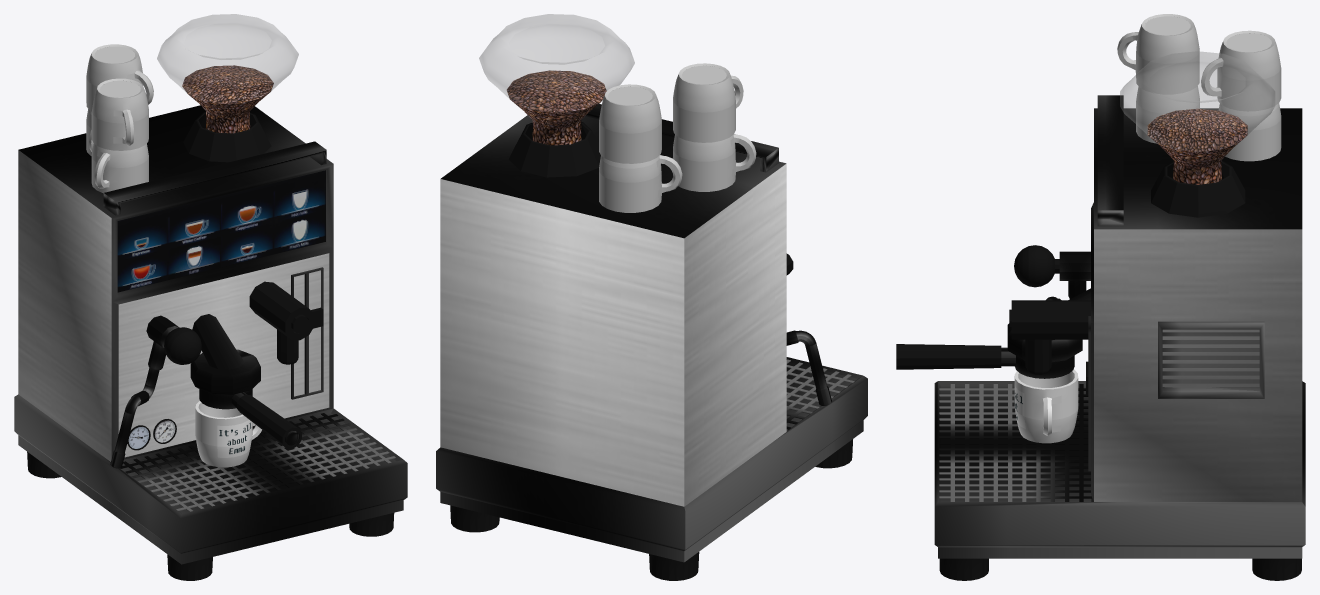
Rendered from coffeMachineFinal.fbx.
3 views of the same model, side by side, from view 1: azimuth 30°, elevation 25°; view 2: azimuth 150°, elevation 25°; view 3: azimuth 270°, elevation 25° (orthographic). The views are drawn at different scales.
Parts seen in each view (by area): view 1: coffeMachine_Exterior, coffeeMachine_button, coffeMachine_knob; view 2: coffeMachine_Exterior; view 3: coffeMachine_Exterior, coffeeMachine_button, coffeMachine_knob.
Boxes of the visible parts, x1,y1,x2,y2 form: coffeMachine_Exterior: (14,14,407,580); coffeeMachine_button: (249,281,314,364); coffeMachine_knob: (164,327,201,364); coffeMachine_Exterior: (436,14,867,580); coffeMachine_Exterior: (896,14,1305,580); coffeeMachine_button: (1009,300,1090,374); coffeMachine_knob: (1014,245,1059,287).
Bounding box in the file's own units: 6.08 × 10.04 × 7.86.
13 materials, 7 textured.
